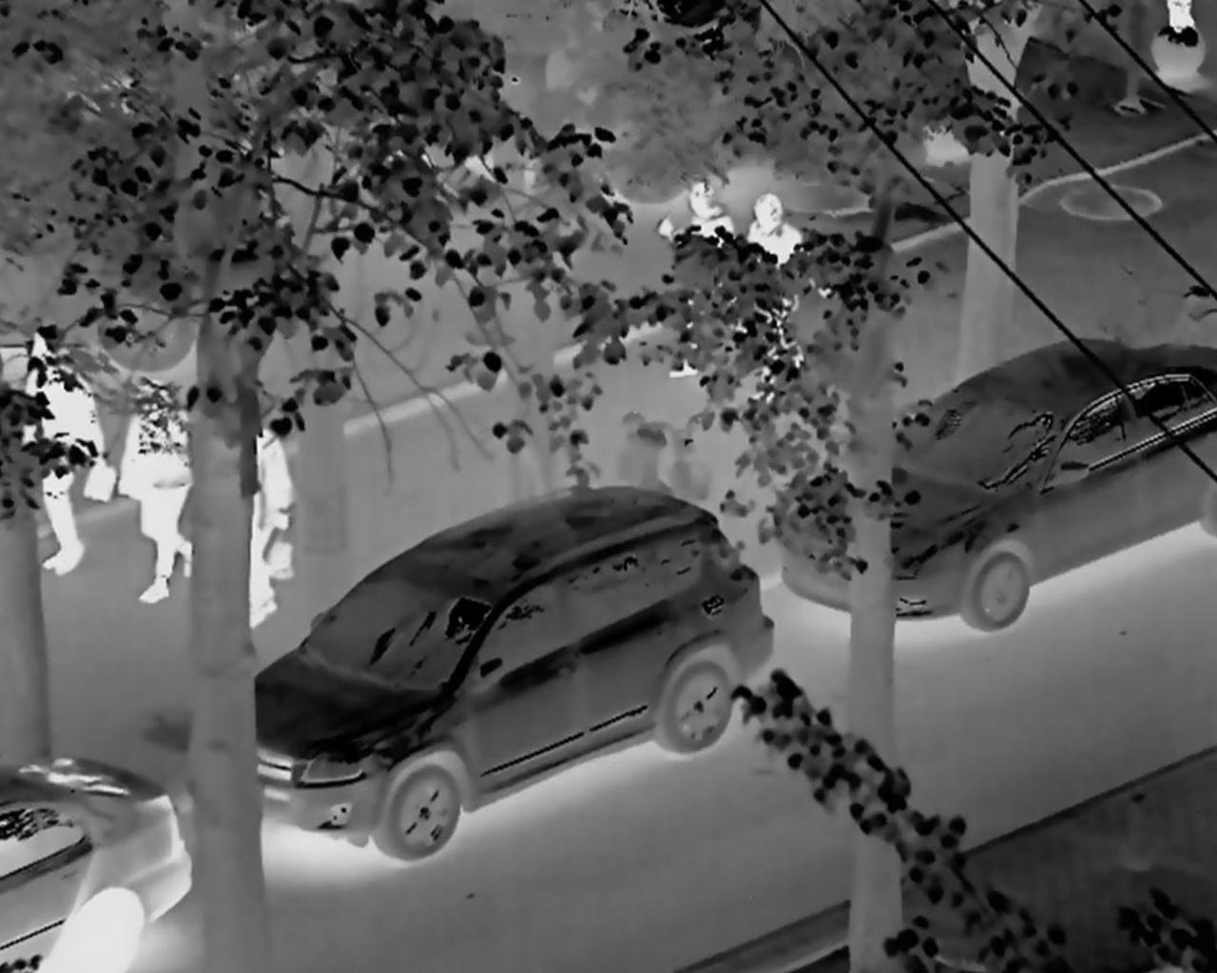person: (9, 321, 110, 588), (113, 327, 202, 601), (223, 410, 325, 637), (664, 179, 738, 390), (739, 190, 808, 410)
